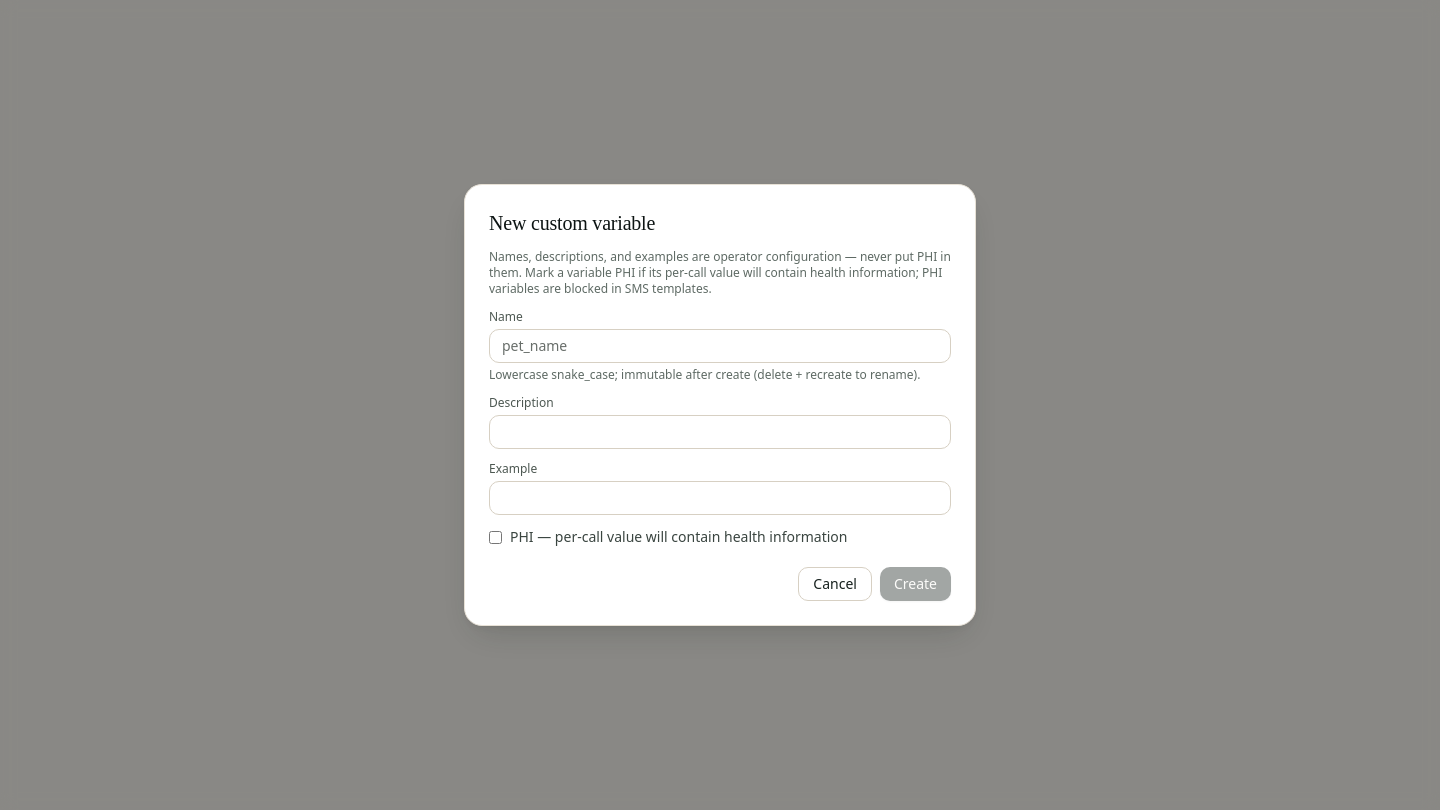
Scenario: DeclareVariableDialog collision mirror › blocks a name that collides with a builtin
In the field labelled "Name": {"x": 720, "y": 346} top-left (489, 329), bottom-right (951, 363), type "first_name"
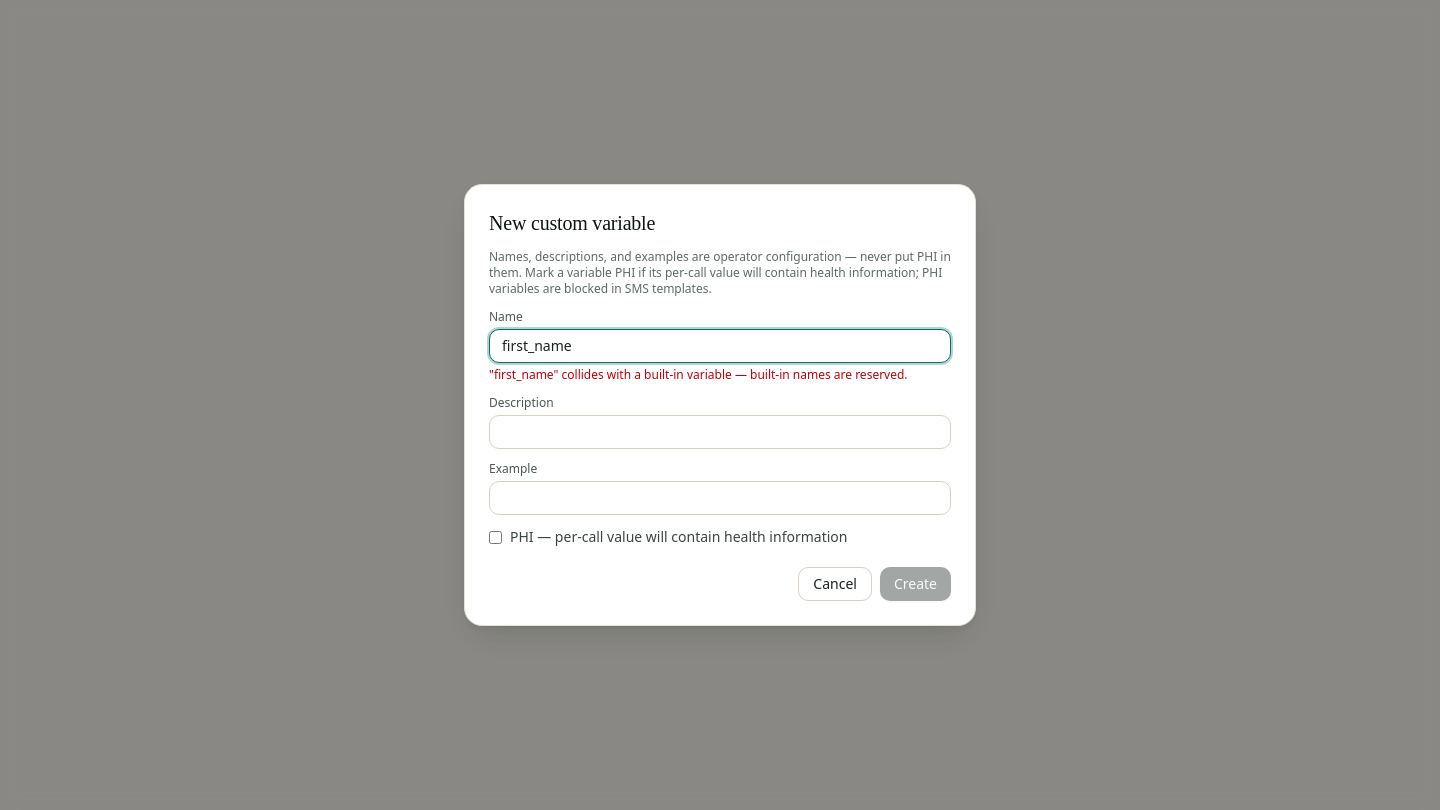
expect the button "Create" is disabled: met, box top-left (880, 567), bottom-right (951, 601)
expect the text "collides with a built-in variable" is shown: met, box top-left (489, 366), bottom-right (908, 383)
